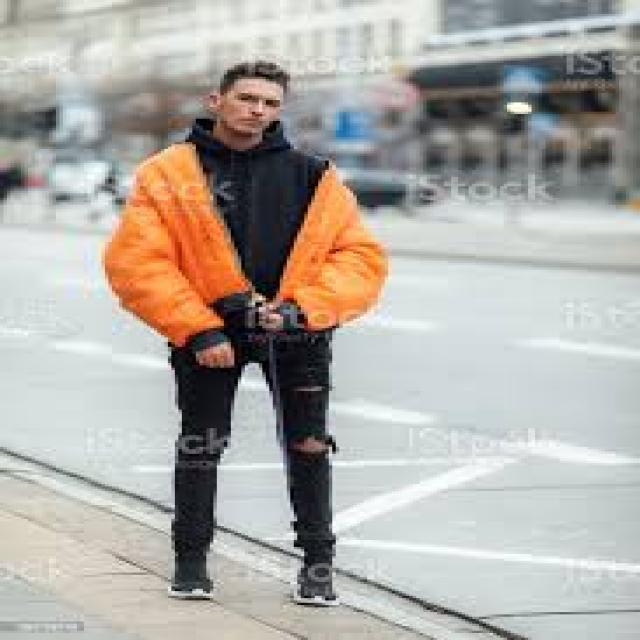Jacket: (85, 131, 413, 349)
